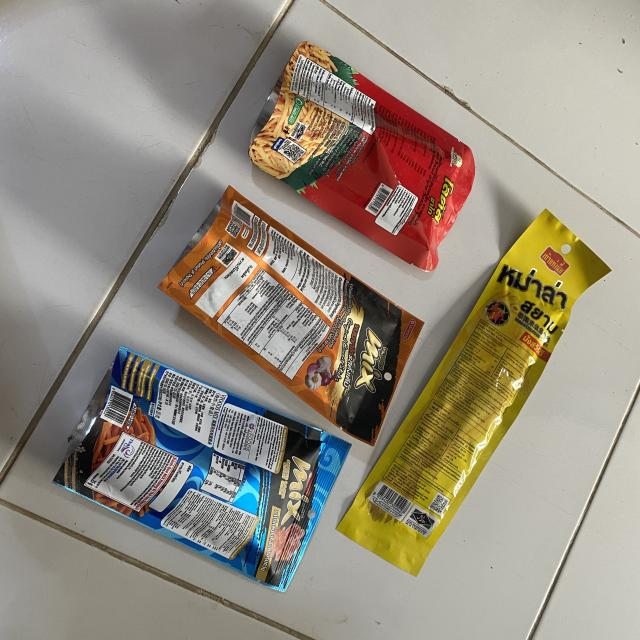plastik: (338, 210, 610, 575), (55, 348, 350, 591), (159, 186, 424, 444), (250, 41, 475, 271)
